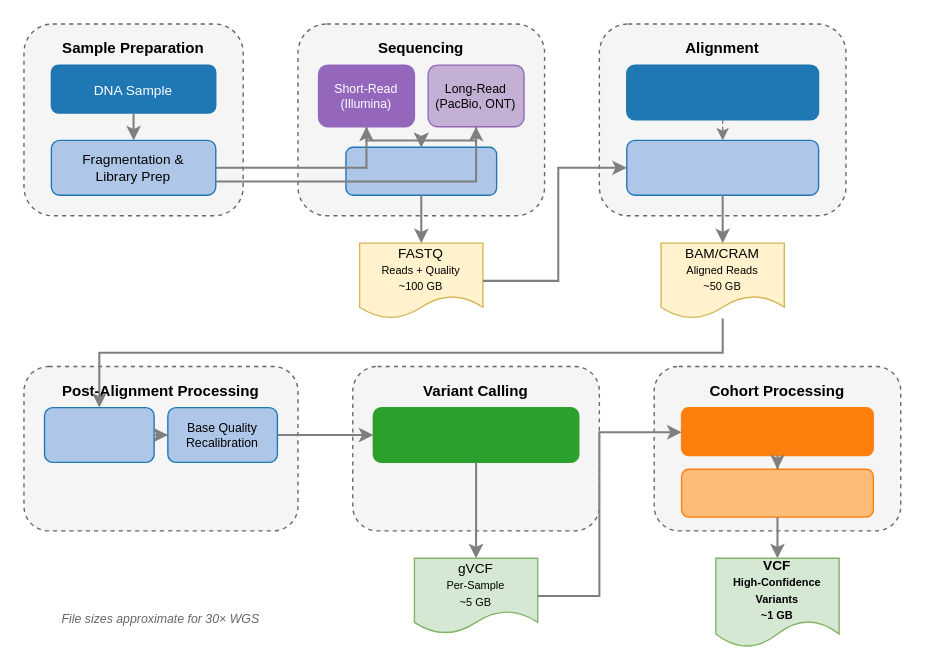
The diagram is 925 pixels wide and 671 high, and some of its shapes have lost their labels. The shapes that lost their labels are listed below. From the top down, each one's centre as x and y in pixels, then its label:
(722,92): Reference Genome GRCh38 / T2T-CHM13
(421,170): Base Calling
(722,167): Read Mapping BWA-MEM2 / minimap2
(98,434): Mark PCR Duplicates
(475,434): Per-Sample Calling HaplotypeCaller / DeepVariant
(776,431): Joint Genotyping Population Priors
(776,492): Variant Filtering VQSR / Hard Filters
